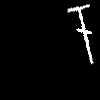double_crochet: (68, 5, 92, 63)
